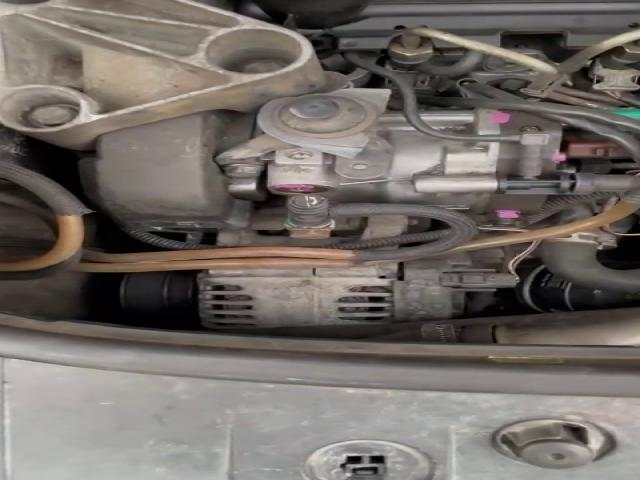alternator: (197, 264, 395, 329)
high_pressure_pump: (267, 110, 638, 225)
